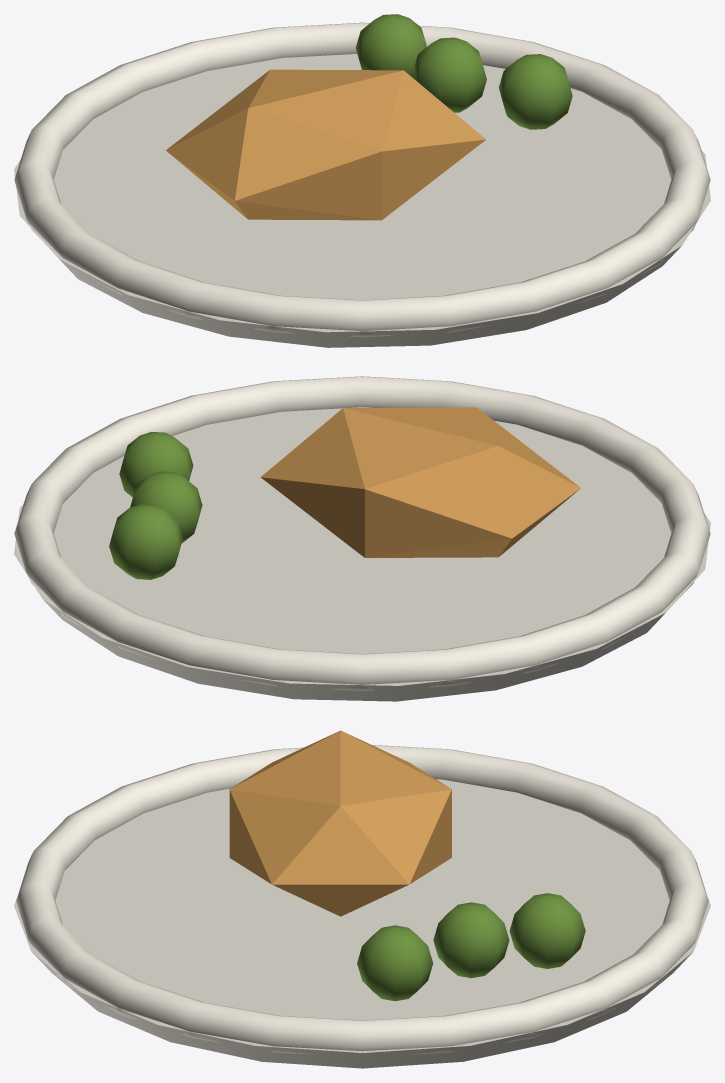
Rendered from food-plate.glb.
3 views of the same model, one above another, from view 1: azimuth 30°, elevation 25°; view 2: azimuth 150°, elevation 25°; view 3: azimuth 270°, elevation 25° (orthographic).
Bounding box in the file's own units: 0.64 × 0.1411 × 0.64.
